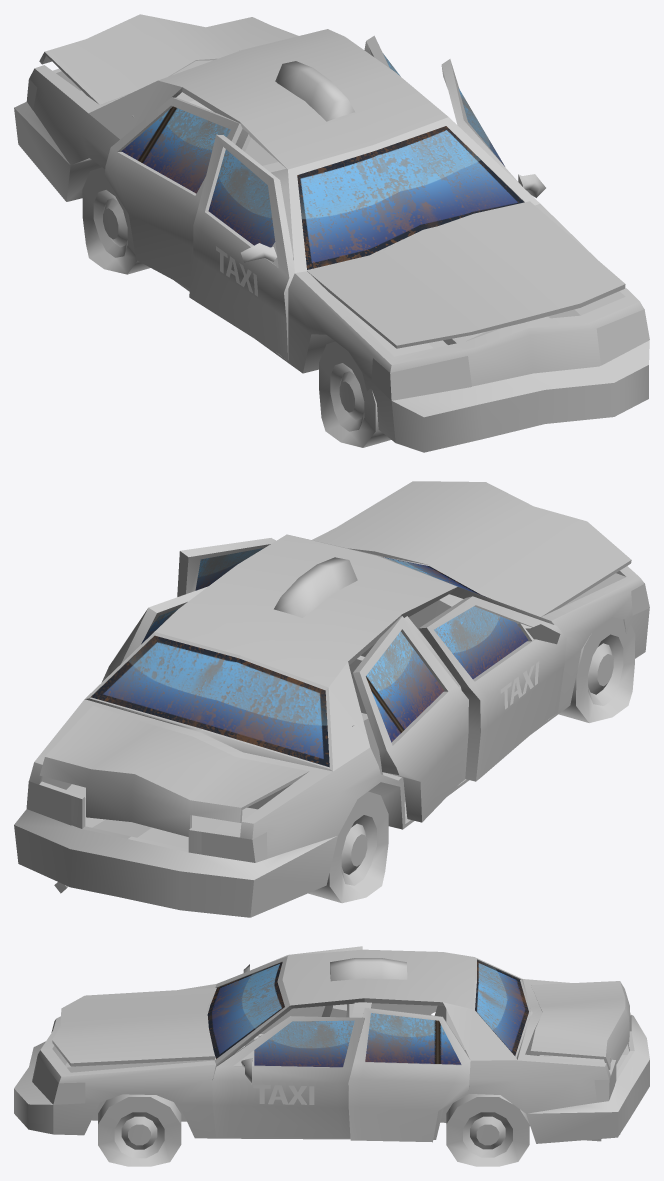
File: Veh_Taxi_B.FBX
3 views of the same model, one above another, from view 1: azimuth 30°, elevation 25°; view 2: azimuth 150°, elevation 25°; view 3: azimuth 270°, elevation 25° (orthographic). The views are drawn at different scales.
Visible parts, largest first — view 1: Veh_Taxi_B, hood, glass_windshieldFront, door_frontR, trunk, door_backR, glass_backR, wheel_frontR, wheel_backR, glass_frontR, light_frontR, light_frontL (+2 smaller); view 2: Veh_Taxi_B, hood, trunk, glass_windshieldRear, door_frontR, door_backR, wheel_frontR, wheel_backR, glass_backR, glass_frontR, door_frontL, light_rearR (+3 smaller); view 3: Veh_Taxi_B, door_frontL, hood, door_backL, trunk, wheel_frontL, wheel_backL, glass_windshieldFront, glass_backL, glass_frontL, glass_windshieldRear, light_frontL (+4 smaller).
Boxes of the visible parts, x1,y1,x2,y2 form: Veh_Taxi_B: [14, 27, 649, 452]; hood: [307, 201, 625, 348]; glass_windshieldFront: [297, 126, 524, 269]; door_frontR: [189, 134, 294, 360]; trunk: [39, 14, 295, 104]; door_backR: [104, 97, 242, 288]; glass_backR: [121, 106, 230, 193]; wheel_frontR: [319, 341, 390, 447]; wheel_backR: [82, 167, 150, 274]; glass_frontR: [208, 149, 275, 247]; light_frontR: [371, 356, 471, 400]; light_frontL: [596, 309, 649, 365]; Veh_Taxi_B: [14, 529, 649, 917]; hood: [315, 481, 631, 616]; trunk: [39, 705, 309, 836]; glass_windshieldRear: [91, 635, 329, 767]; door_frontR: [419, 596, 566, 781]; door_backR: [353, 616, 468, 822]; wheel_frontR: [559, 617, 635, 722]; wheel_backR: [308, 791, 388, 903]; glass_backR: [366, 631, 444, 742]; glass_frontR: [434, 606, 528, 679]; door_frontL: [177, 538, 275, 596]; light_rearR: [201, 832, 267, 862]; Veh_Taxi_B: [14, 949, 649, 1143]; door_frontL: [212, 1016, 364, 1137]; hood: [52, 988, 215, 1066]; door_backL: [348, 1007, 470, 1142]; trunk: [530, 981, 629, 1069]; wheel_frontL: [98, 1094, 181, 1166]; wheel_backL: [446, 1094, 529, 1166]; glass_windshieldFront: [207, 962, 284, 1058]; glass_backL: [365, 1013, 461, 1064]; glass_frontL: [254, 1020, 354, 1067]; glass_windshieldRear: [475, 960, 528, 1055]; light_frontL: [32, 1057, 85, 1104].
Size of the model in its own units: 215 by 143 by 524.
